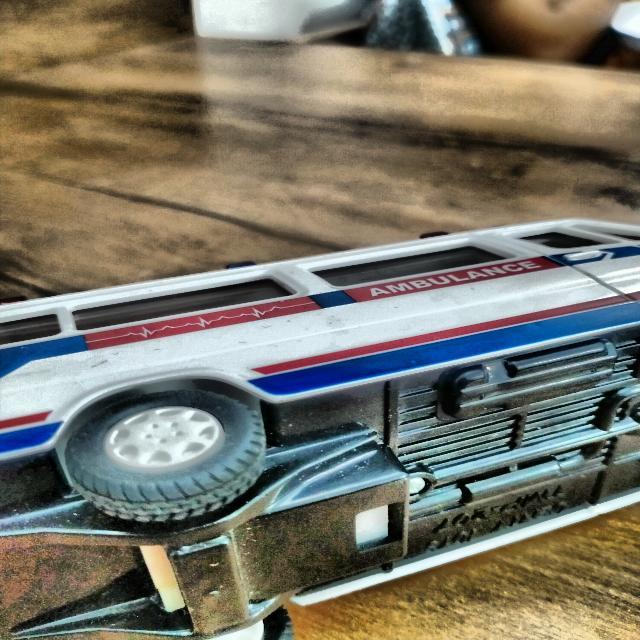Ambulance: (4, 212, 640, 640)
